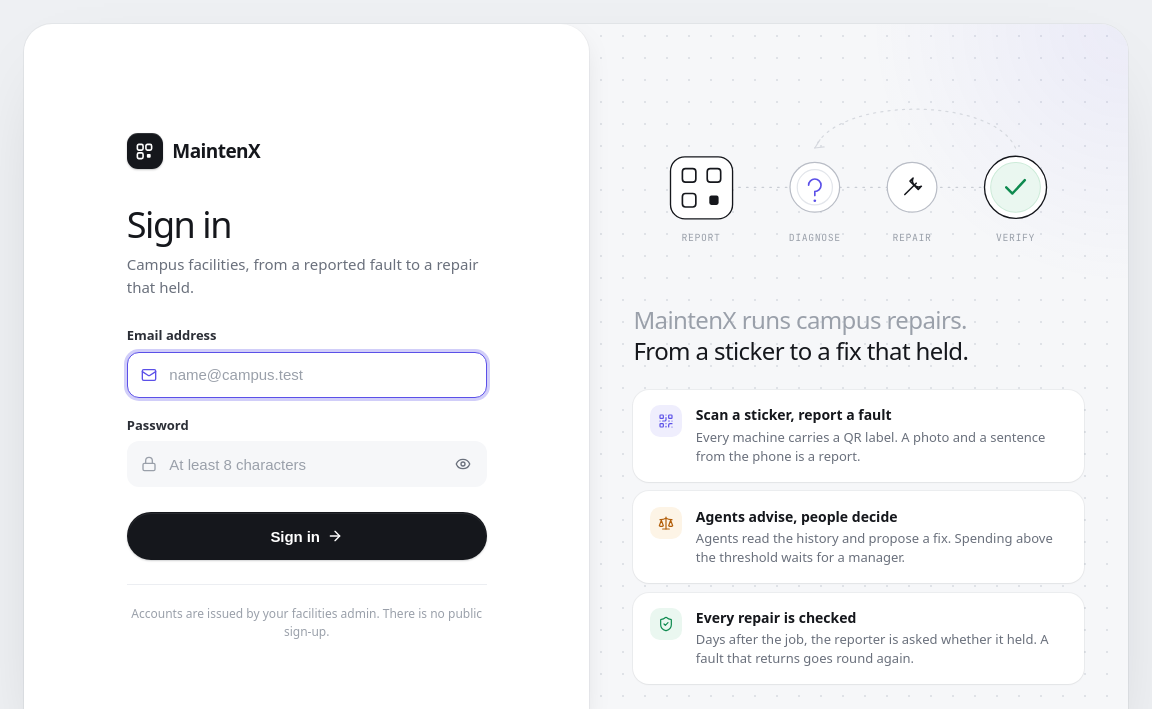
Test case: LoginPage › shows the error state "Could not sign in" with the API's reason when sign-in is refused
The width and height of the screenshot is (1152, 709).
Type "manager@campus.test" into the field labelled "Email address" at (307, 375), box [127,352,487,398]
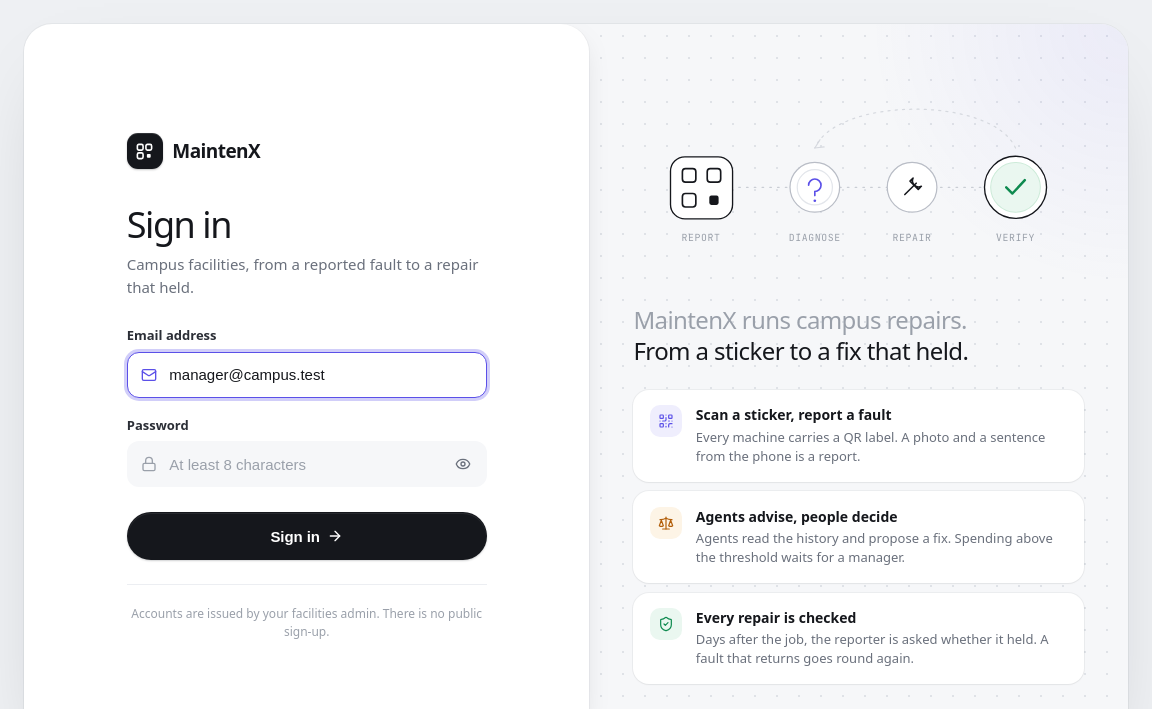
Type "WrongPassword1" into the password field labelled "Password" at (307, 464), box [127,441,487,487]
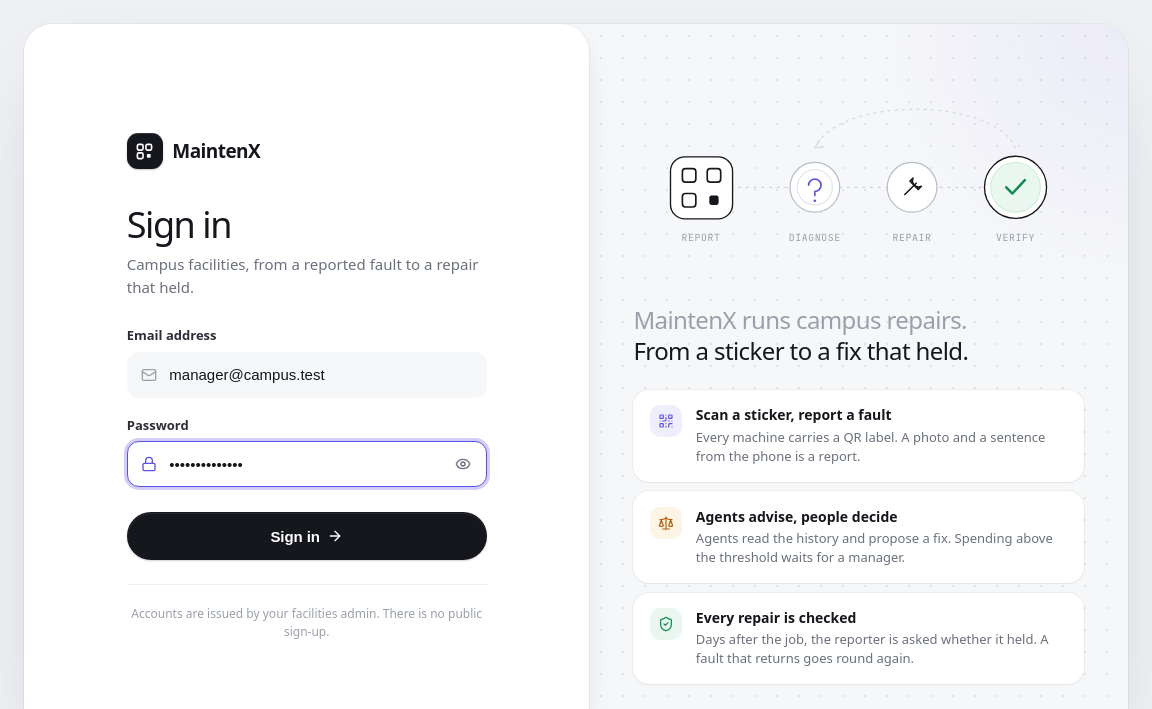
Click the button "Sign in" at (307, 536), box [127,512,487,560]
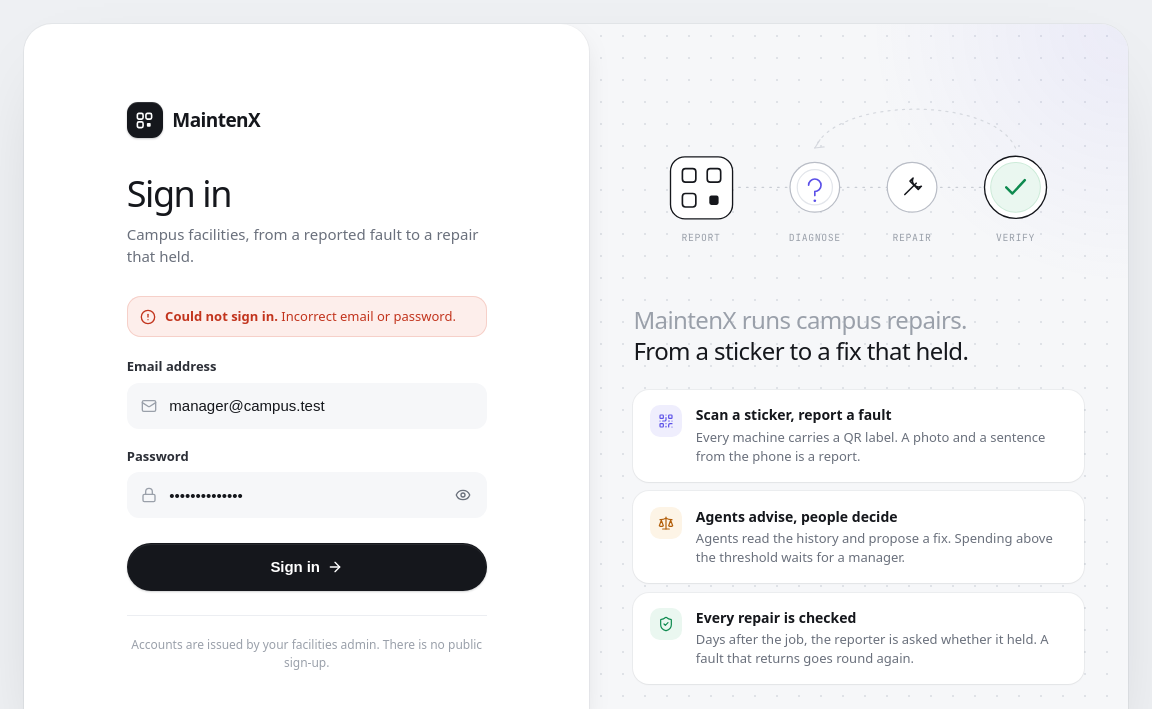
Expected: the message reads "Could not sign in. Incorrect email or password.", [127,296,487,337]
